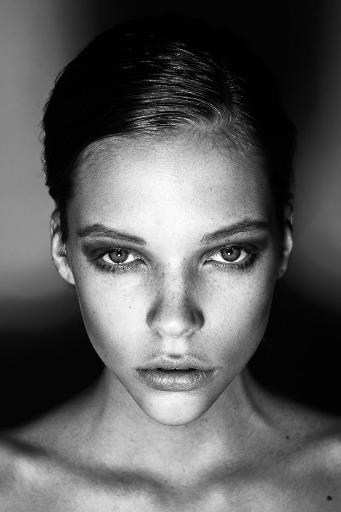left_eye: (201, 243, 259, 277)
left_lip_corner: (203, 361, 220, 383)
right_eye: (91, 246, 149, 280)
right_lip_corner: (134, 360, 152, 385)
